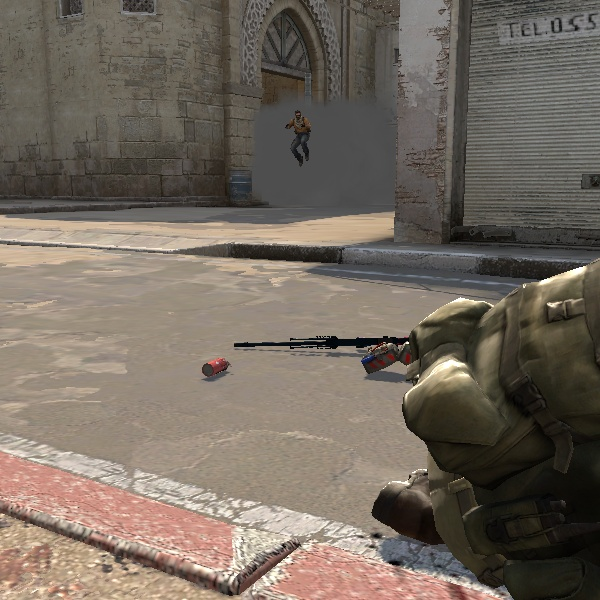t_body: (282, 108, 313, 164)
t_head: (291, 109, 306, 123)
